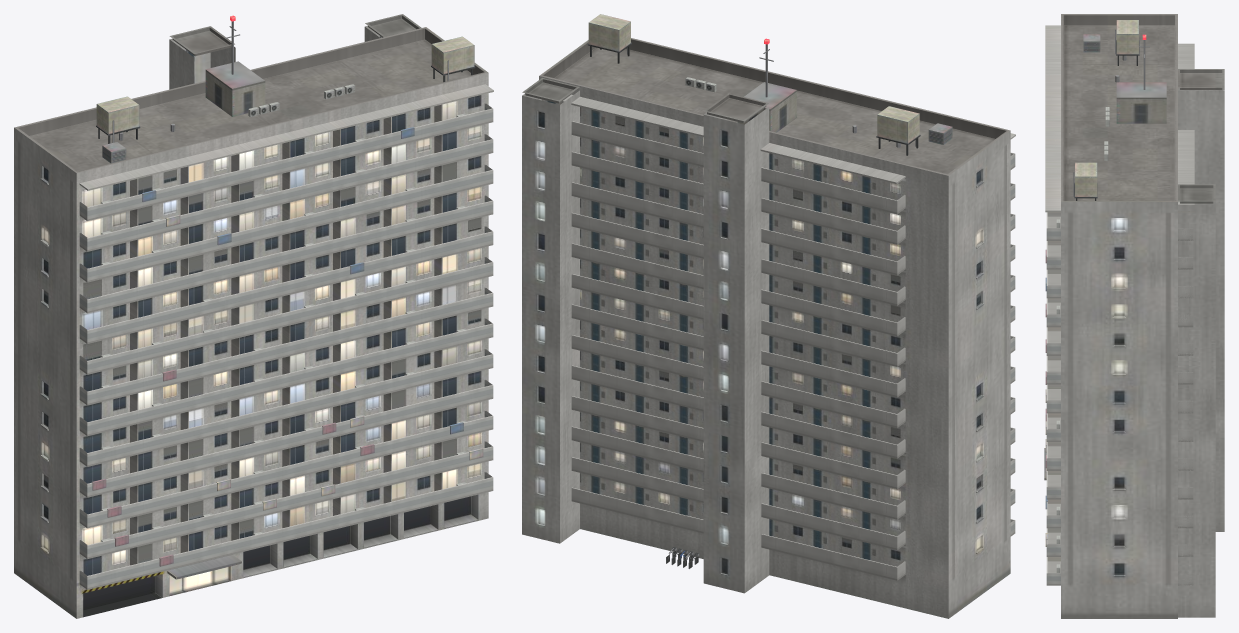
Rendered from tokyo_apartment_d.glb.
3 views of the same model, side by side, from view 1: azimuth 30°, elevation 25°; view 2: azimuth 150°, elevation 25°; view 3: azimuth 270°, elevation 25° (orthographic). The views are drawn at different scales.
Parts seen in each view (by area): view 1: tokyo_apartment_d; view 2: tokyo_apartment_d; view 3: tokyo_apartment_d.
Boxes of the visible parts, x1,y1,x2,y2 form: tokyo_apartment_d: (14,14,493,618); tokyo_apartment_d: (522,14,1015,618); tokyo_apartment_d: (1044,14,1224,618).
Size of the model in its own units: 40.22 by 48.3 by 16.2.
1 material, 1 textured.
